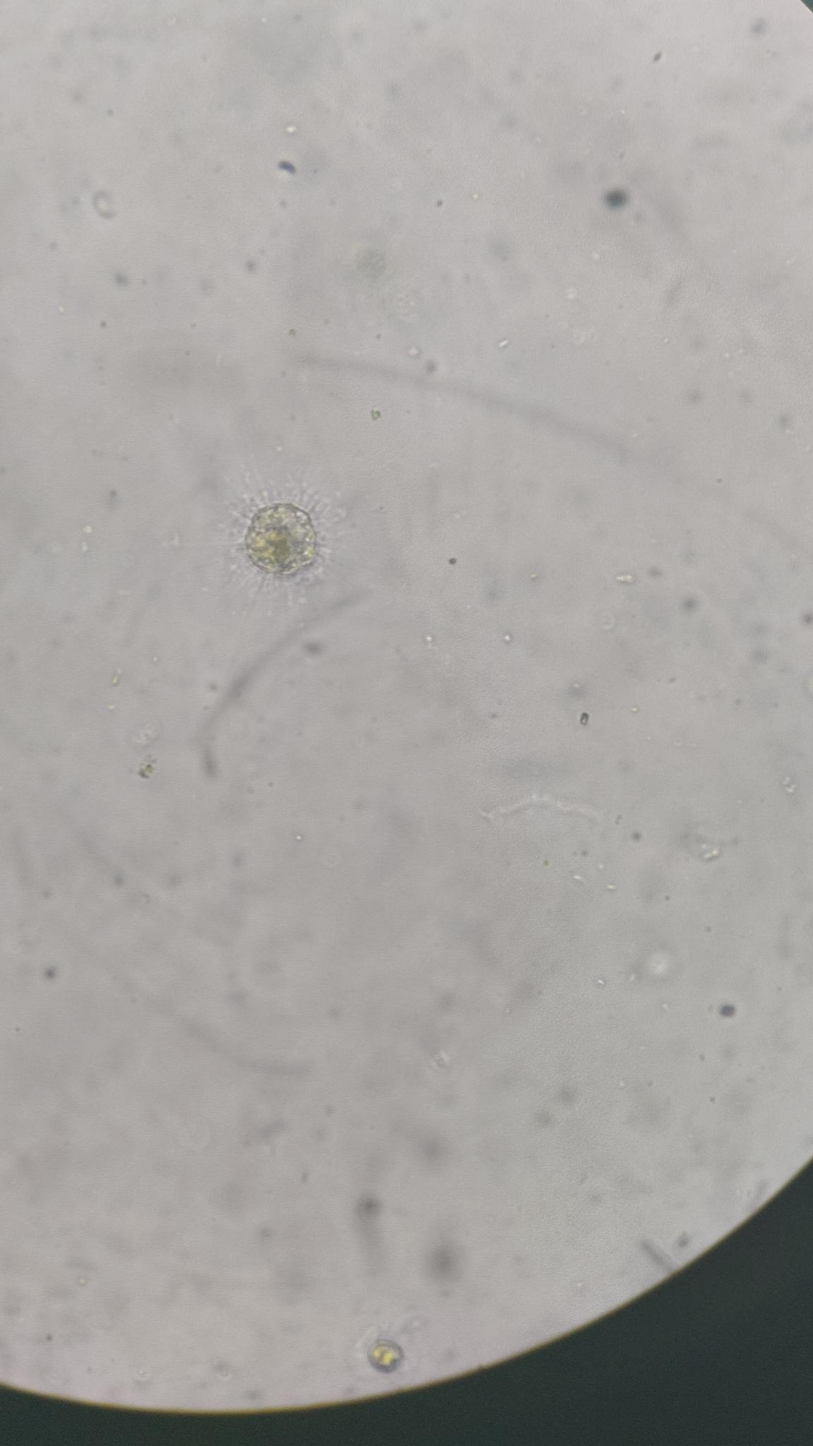Chlorella: (192, 432, 357, 626)
